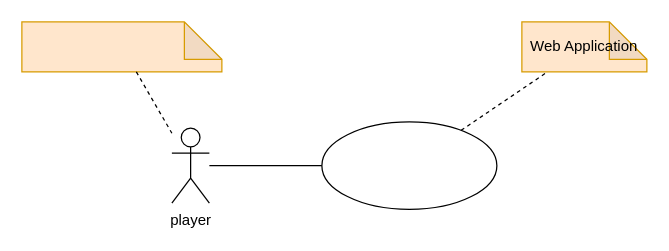
Image size: 669x251. Some labels were removed from this diagram. Here are the shapes that lost their labels. From the top down, the centre of each, then its label:
[121,46]: one player moves both discs
[409,165]: reversi application
